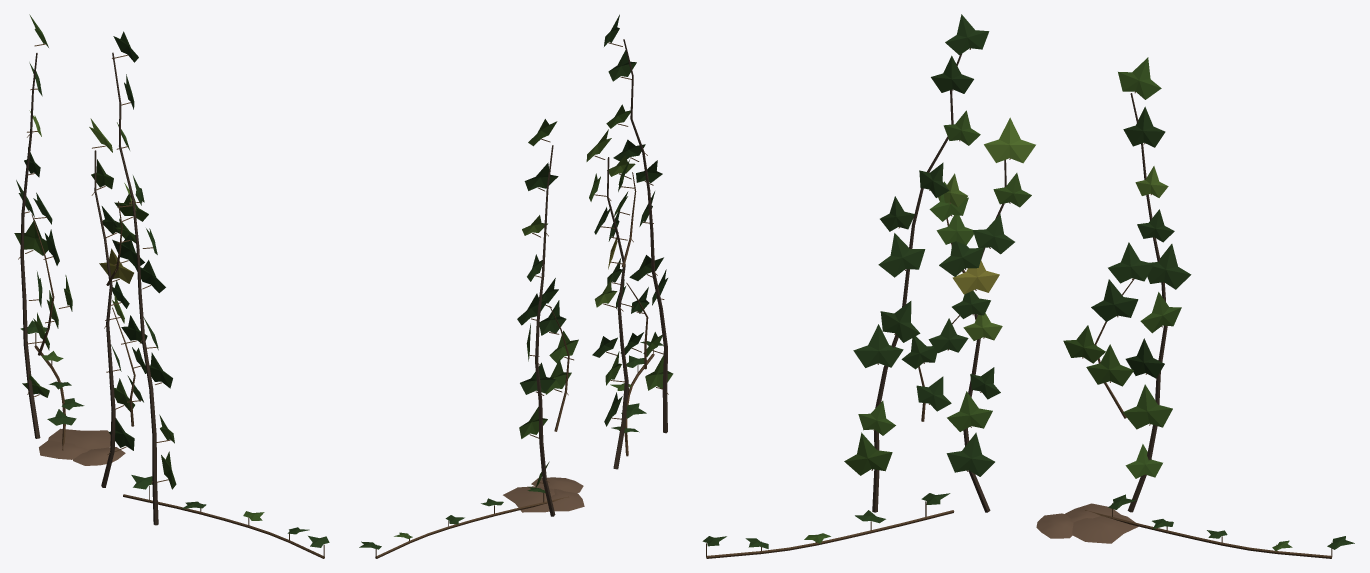
Rendered from ivy_wall@1.glb.
3 renders of one model, left to right at view 1: azimuth 30°, elevation 25°; view 2: azimuth 150°, elevation 25°; view 3: azimuth 270°, elevation 25°, orthographic. The views are drawn at different scales.
Visible parts, largest first — view 1: teil4, teil0, teil3, teil2, teil7, teil5, teil6; view 2: teil4, teil0, teil3, teil2, teil7, teil5; view 3: teil4, teil3, teil0, teil5, teil7, teil2, teil6.
Part boxes in pixels (x1,y1,x2,y2): teil4: (16, 31, 329, 547); teil0: (20, 52, 158, 525); teil3: (14, 14, 264, 520); teil2: (24, 43, 324, 558); teil7: (39, 428, 125, 465); teil5: (29, 110, 136, 323); teil6: (99, 248, 133, 283); teil4: (359, 14, 667, 549); teil0: (535, 39, 667, 516); teil3: (394, 104, 673, 538); teil2: (375, 42, 664, 558); teil7: (503, 477, 584, 512); teil5: (522, 129, 635, 307); teil4: (702, 14, 1354, 549); teil3: (804, 57, 1292, 550); teil0: (872, 54, 1167, 512); teil5: (938, 117, 1168, 340); teil7: (1036, 503, 1138, 543); teil2: (706, 48, 1332, 558); teil6: (952, 260, 999, 294).
Bounding box in the file's own units: 0.4598 × 1.68 × 1.99.
